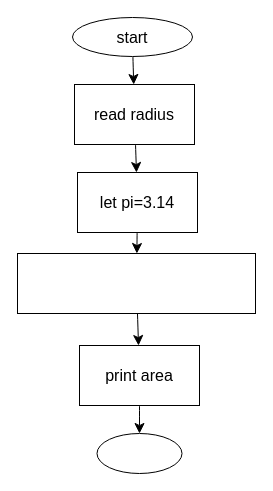
Some shapes in this 273 by 491 pixel diagram are drawn without their labels. Each missing label, with the centre of its shape:
"area = pi*radius*radius" belongs at pixel 136 283.
"stop" belongs at pixel 139 453.
